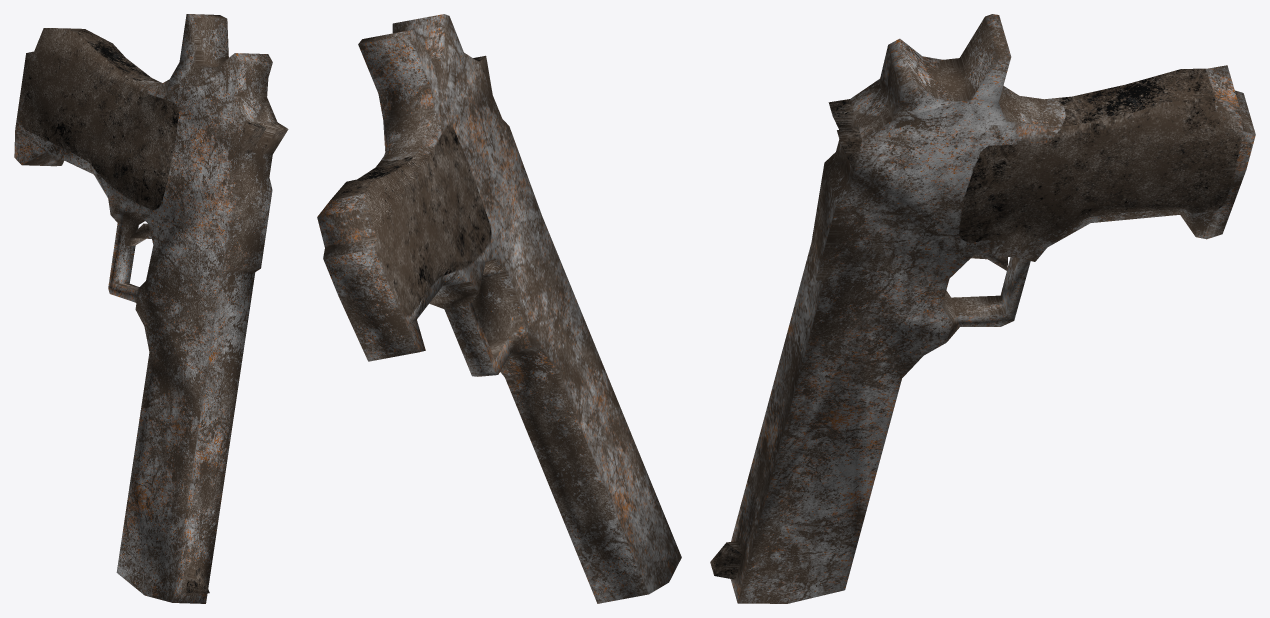
The model's file is Anim_disparar_pistola_objetos.0032.obj.
The picture shows the model from 3 angles, left to right: view 1: azimuth 30°, elevation 25°; view 2: azimuth 150°, elevation 25°; view 3: azimuth 270°, elevation 25°; orthographic projection. The views are drawn at different scales.
Parts seen in each view (by area): view 1: Pistola1; view 2: Pistola1; view 3: Pistola1.
Boxes of the visible parts, x1,y1,x2,y2 form: Pistola1: (14,14,288,603); Pistola1: (317,14,681,603); Pistola1: (710,14,1255,603).
Size of the model in its own units: 0.6181 by 1.63 by 1.24.
